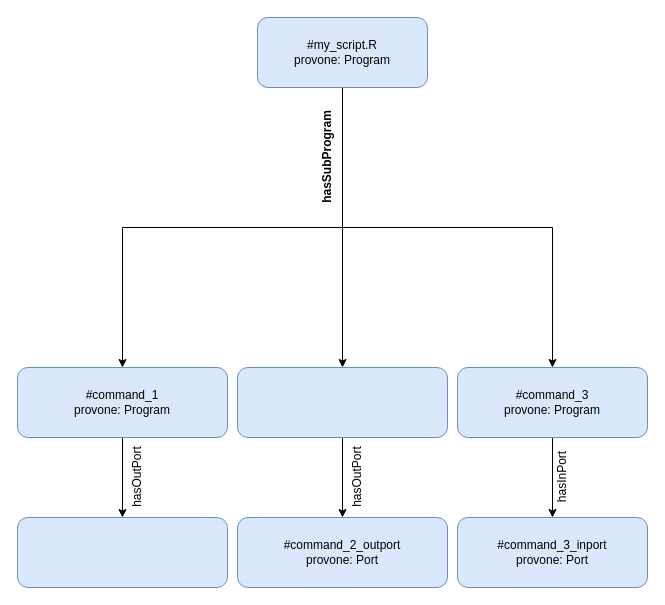
Some shapes in this 665 by 605 pixel diagram are drawn without their labels. The centre of each missing label's shape, as x and y in pixels:
"#command_1_outport provone: Port" belongs at point (122, 552).
"#command_2 provone: Program" belongs at point (342, 402).
